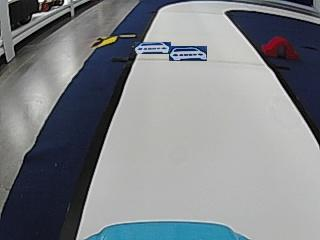bridge: (262, 35, 298, 58)
